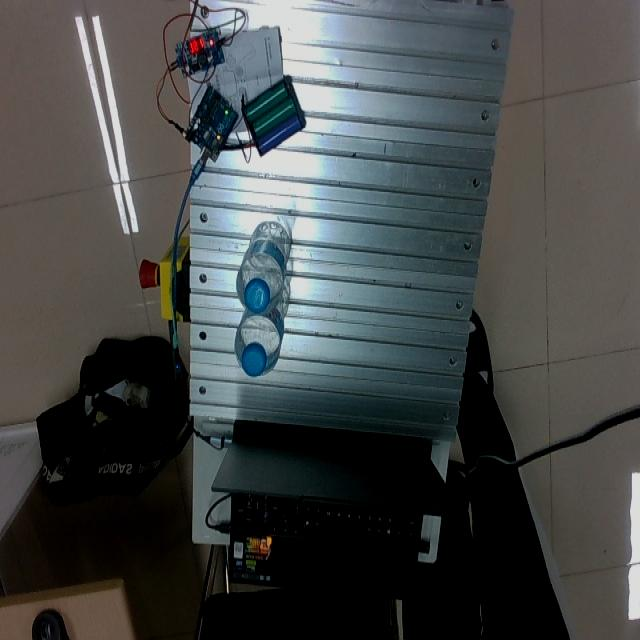lavie: (235, 280, 290, 380), (237, 222, 291, 318)
